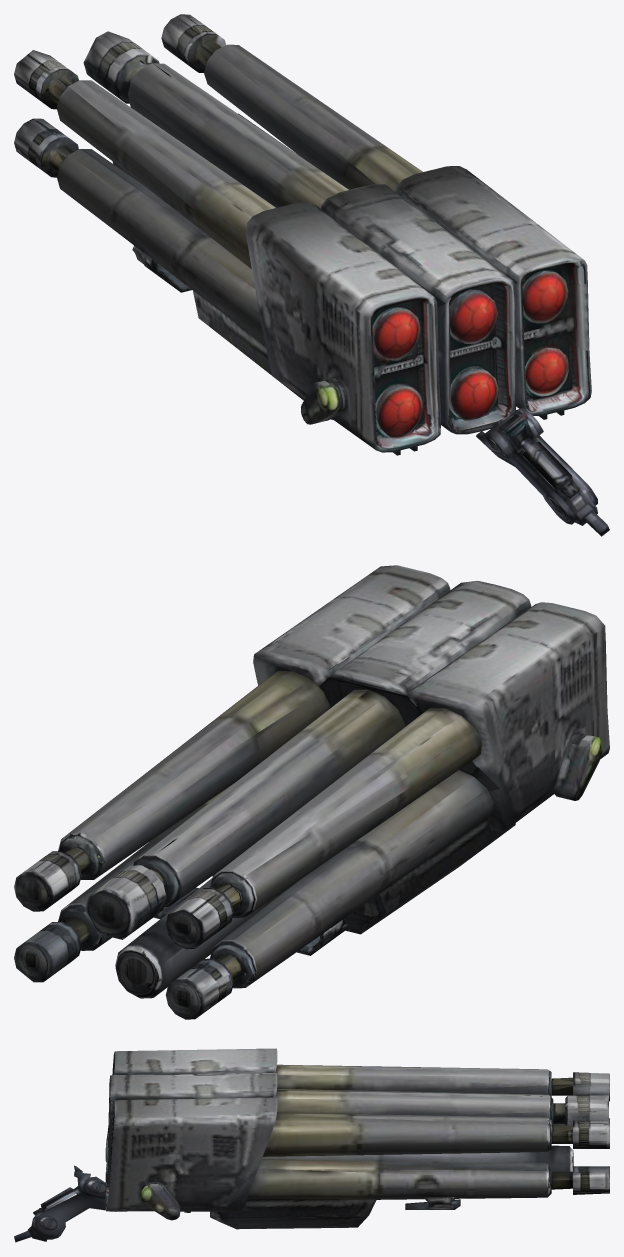
The picture shows the model from 3 angles, top to bottom: view 1: azimuth 30°, elevation 25°; view 2: azimuth 150°, elevation 25°; view 3: azimuth 270°, elevation 25°; orthographic projection. The views are drawn at different scales.
Visible parts, largest first — view 1: gun; view 2: gun; view 3: gun.
Boxes of the visible parts, x1,y1,x2,y2 form: gun: [14, 14, 609, 536]; gun: [14, 565, 609, 1019]; gun: [14, 1048, 609, 1242].
Bounding box in the file's own units: 0.4614 × 0.3795 × 1.4.
1 material, 1 textured.
